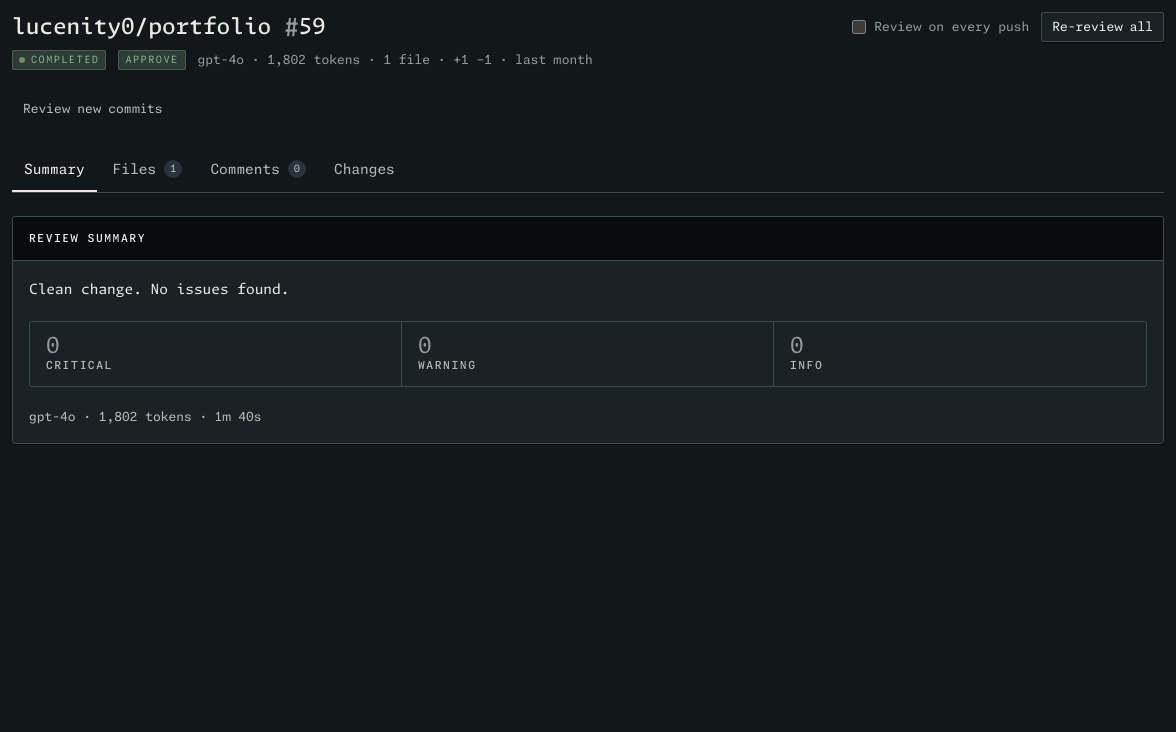
ReviewDetail — completed › says so plainly when Liffy had nothing to flag
The width and height of the screenshot is (1176, 732).
What coordinates should you click on to do the following:
click the tab "Comments 0"
I would click on:
 (258, 170)
Its box is [198,148,318,192].
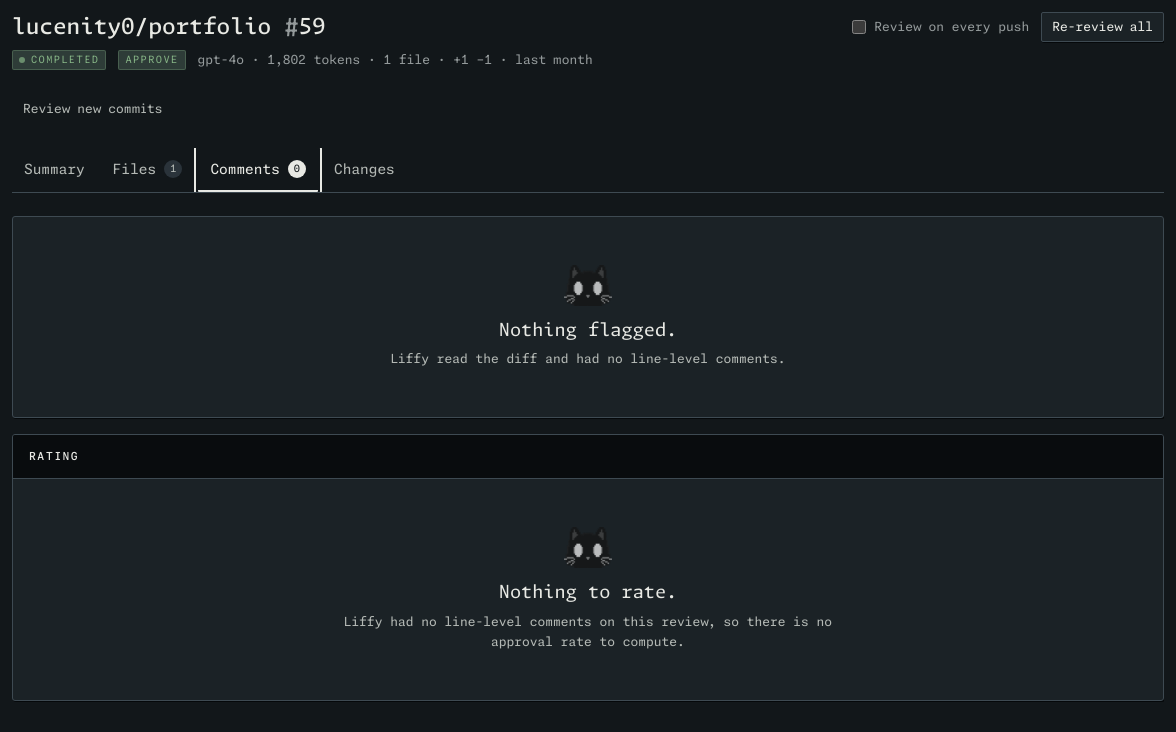
Expected: the text "Nothing flagged." is shown, [499,318,677,342]
